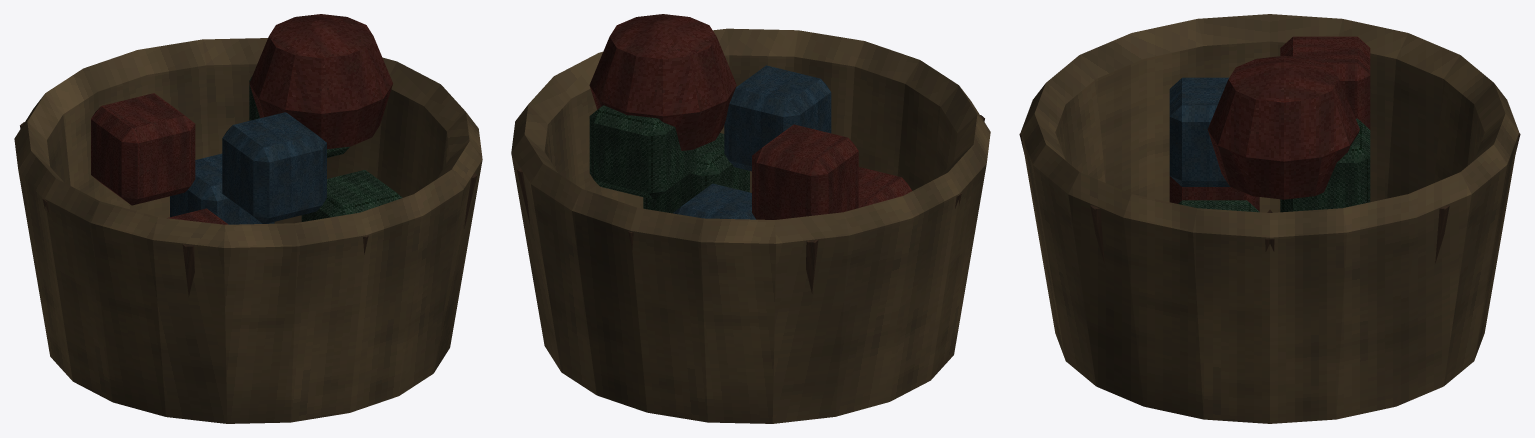
File: level_lived_toy_basket_worn.glb
The picture shows the model from 3 angles, left to right: view 1: azimuth 30°, elevation 25°; view 2: azimuth 150°, elevation 25°; view 3: azimuth 270°, elevation 25°; orthographic projection. The views are drawn at different scales.
Parts seen in each view (by area): view 1: level_lived_toy_basket_worn; view 2: level_lived_toy_basket_worn; view 3: level_lived_toy_basket_worn.
Boxes of the visible parts, x1,y1,x2,y2 form: level_lived_toy_basket_worn: (14,14,482,423); level_lived_toy_basket_worn: (511,14,990,423); level_lived_toy_basket_worn: (1019,14,1520,423).
Size of the model in its own units: 0.7203 by 0.52 by 0.7234.
Materials: 5 (5 with a texture image).
